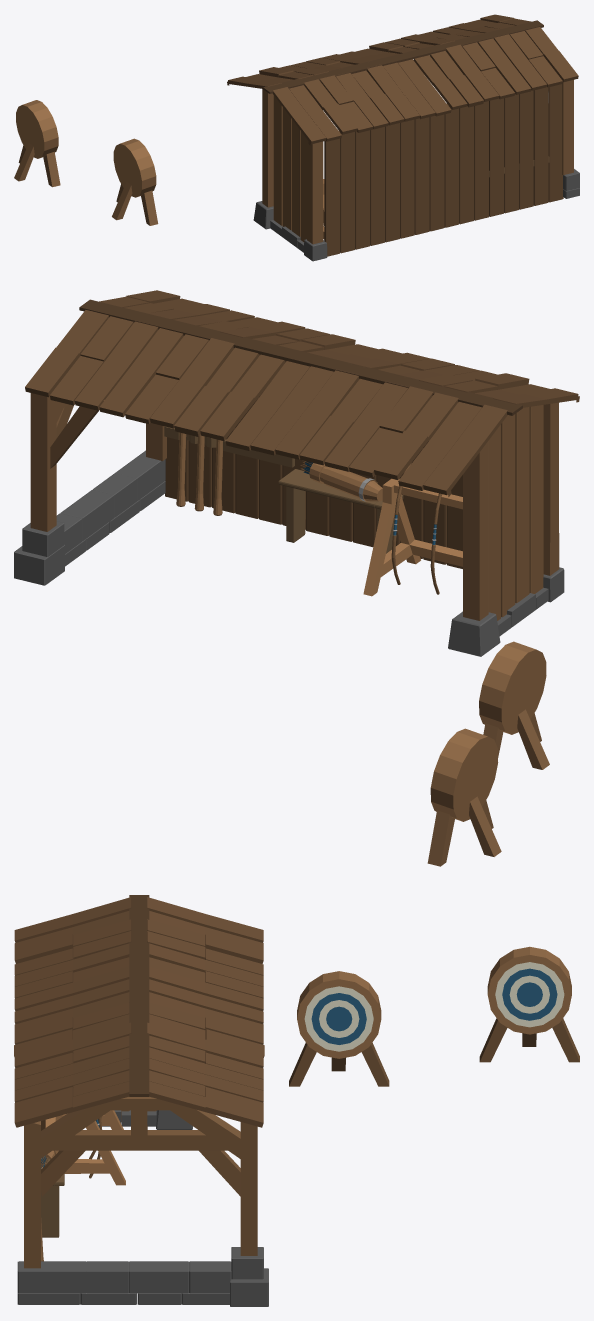
The picture shows the model from 3 angles, top to bottom: view 1: azimuth 30°, elevation 25°; view 2: azimuth 150°, elevation 25°; view 3: azimuth 270°, elevation 25°; orthographic projection. The views are drawn at different scales.
Parts seen in each view (by area): view 1: Cube.004, Cube.015, Cube.013, Cube.061, Cube.060, Cube.017, Cube.012, Cube.014, Cube.043, Cube, Cube.044, Cube.008 (+1 smaller); view 2: Cube.015, Cube.013, Cube.004, Cube.008, Cube.060, Cube.061, Cube.017, Cube.001, Cube.014, Cube.043, Cube.044, Cube.012 (+6 smaller); view 3: Cube.015, Cube.013, Cube.008, Cube.061, Cube.060, Cube.017, Cube.001, Cube.011, Cube.
Boxes of the visible parts, <box> form: Cube.004: <box>324,84,563,256</box>; Cube.015: <box>227,14,578,145</box>; Cube.013: <box>262,80,573,244</box>; Cube.061: <box>112,138,158,225</box>; Cube.060: <box>14,100,60,187</box>; Cube.017: <box>263,20,543,93</box>; Cube.012: <box>273,95,282,225</box>; Cube.014: <box>282,107,291,229</box>; Cube.043: <box>291,119,300,236</box>; Cube: <box>253,201,327,261</box>; Cube.044: <box>300,131,306,242</box>; Cube.008: <box>563,169,579,198</box>; Cube.015: <box>25,290,579,496</box>; Cube.013: <box>30,393,559,620</box>; Cube.004: <box>165,354,462,568</box>; Cube.008: <box>14,450,165,585</box>; Cube.060: <box>427,728,501,866</box>; Cube.061: <box>479,641,549,769</box>; Cube.017: <box>79,299,522,415</box>; Cube.001: <box>363,478,462,596</box>; Cube.014: <box>501,414,515,617</box>; Cube.043: <box>515,407,529,603</box>; Cube.044: <box>529,405,543,593</box>; Cube.012: <box>488,424,500,620</box>; Cube.015: <box>14,897,264,1127</box>; Cube.013: <box>24,1096,257,1268</box>; Cube.008: <box>17,1247,268,1306</box>; Cube.061: <box>289,971,389,1086</box>; Cube.060: <box>479,946,579,1062</box>; Cube.017: <box>129,895,149,1096</box>; Cube.001: <box>41,1110,125,1185</box>; Cube.011: <box>41,1157,64,1237</box>; Cube: <box>156,1110,192,1129</box>.
Size of the model in its own units: 1624 by 620 by 1357.
